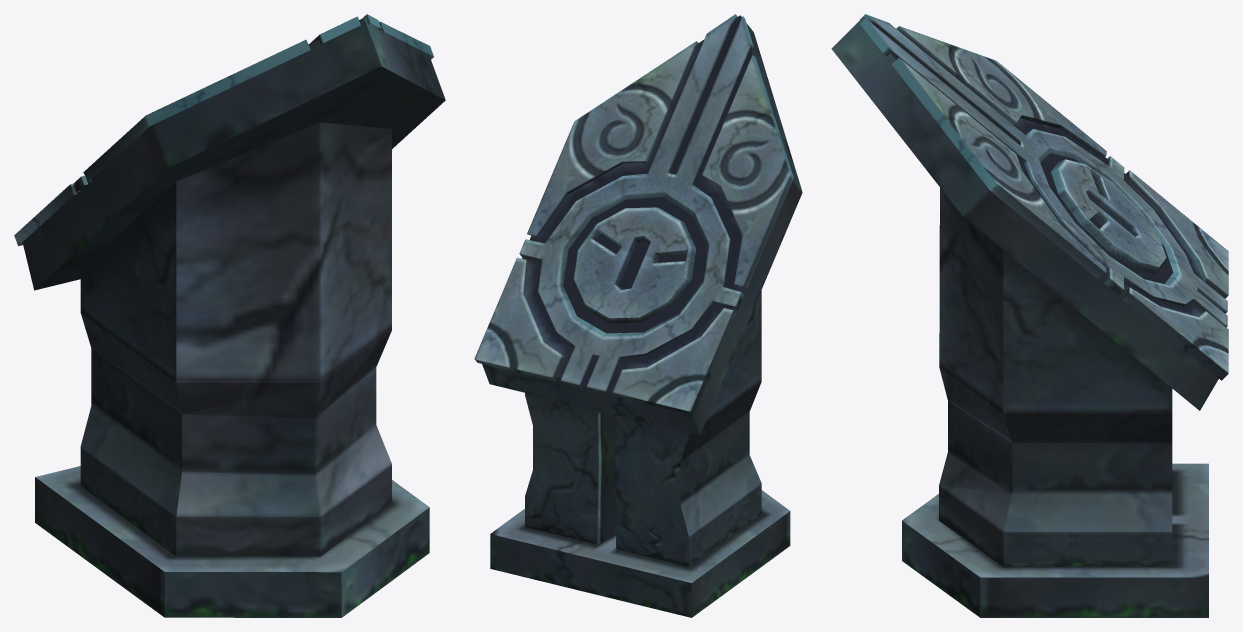
File: t-keyTrap-01.FBX
3 renders of one model, left to right at view 1: azimuth 30°, elevation 25°; view 2: azimuth 150°, elevation 25°; view 3: azimuth 270°, elevation 25°, orthographic. The views are drawn at different scales.
Parts seen in each view (by area): view 1: Box004, Object003, Object004; view 2: Box004, Object006, Object003, Object002, Object004, Object005; view 3: Box004, Object002, Object006, Object003, Object005, Object004.
Part boxes in pixels (bbox=[...]): Box004: bbox=[22, 14, 445, 617]; Object003: bbox=[83, 39, 310, 181]; Object004: bbox=[14, 183, 77, 246]; Box004: bbox=[482, 14, 802, 617]; Object006: bbox=[573, 207, 696, 323]; Object003: bbox=[702, 55, 793, 288]; Object002: bbox=[527, 41, 698, 237]; Object004: bbox=[612, 308, 736, 415]; Object005: bbox=[474, 257, 563, 381]; Box004: bbox=[831, 14, 1227, 617]; Object002: bbox=[891, 58, 1106, 278]; Object006: bbox=[1051, 159, 1166, 274]; Object003: bbox=[896, 26, 1106, 158]; Object005: bbox=[1122, 287, 1228, 380]; Object004: bbox=[1126, 170, 1228, 298].
Size of the model in its own units: 76.73 by 159 by 105.
